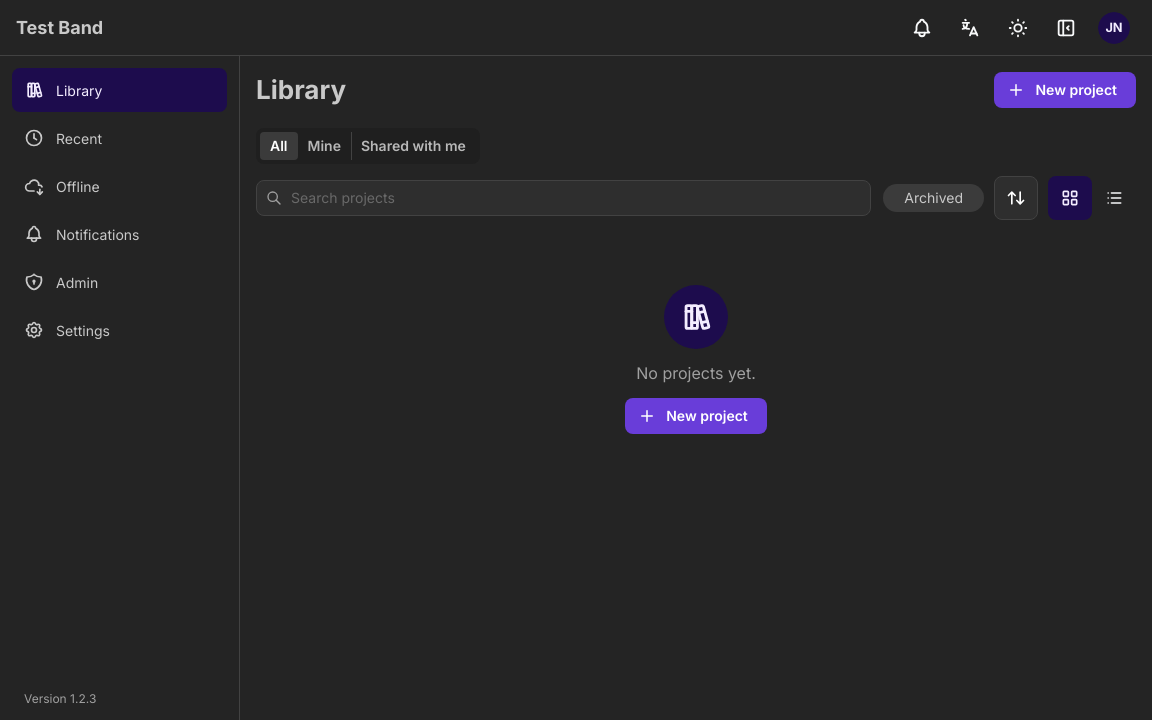
it: app shell (logged in) › switches language to Czech, remembers it, and saves it to the account
This screenshot has width=1152, height=720.
Click the button with test id "language-switcher".
click(970, 28)  # box 948,6 -> 992,50
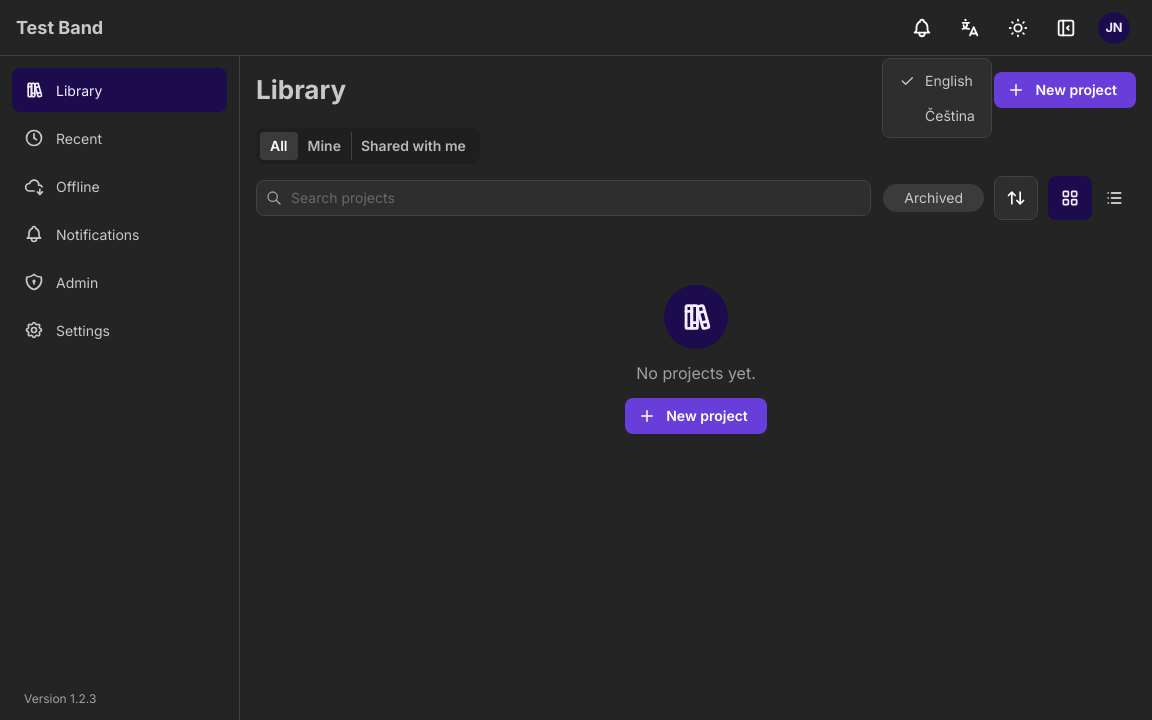
Click the menu item with test id "language-cs".
click(937, 116)  # box 887,98 -> 987,133
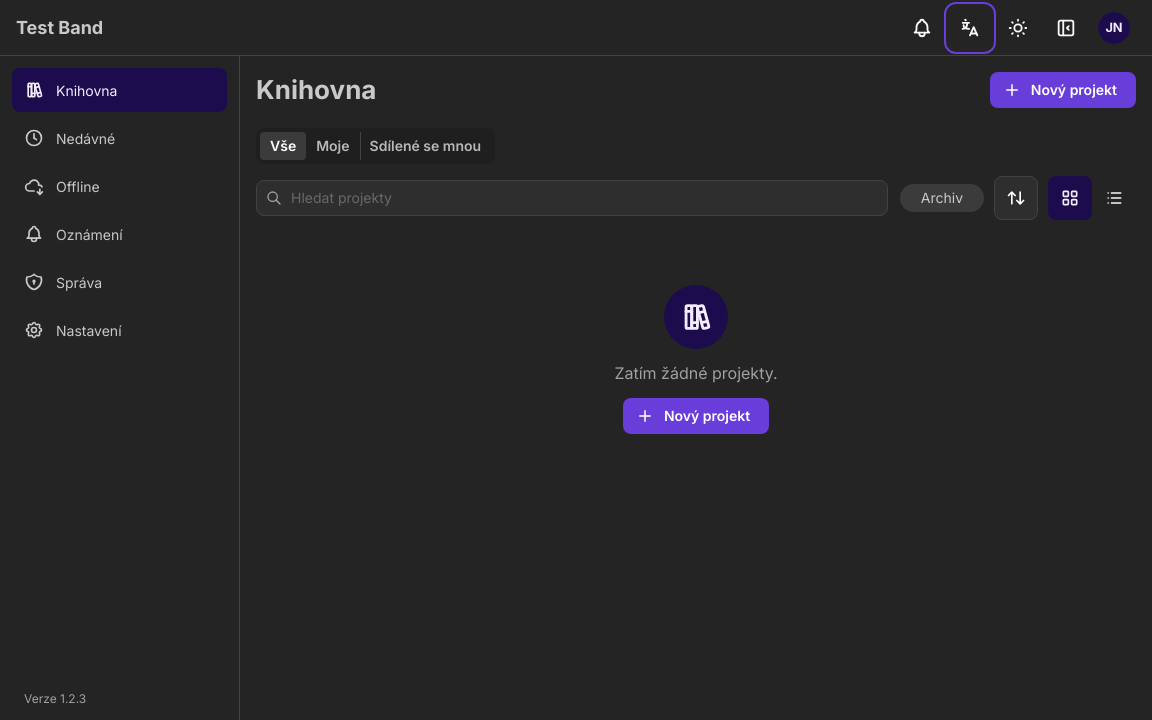
Check: the heading "Knihovna" is shown, box 256,72 -> 376,108
